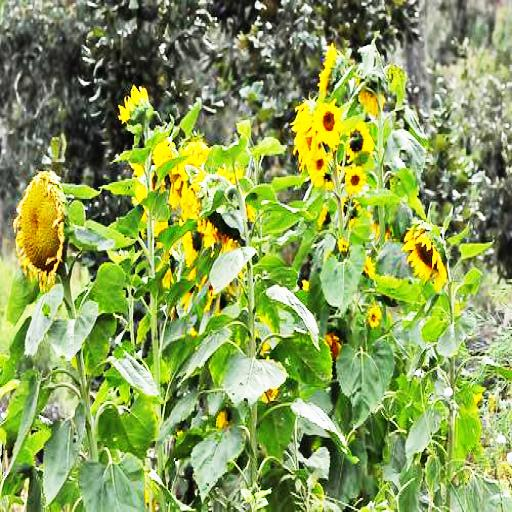sunflower: (14, 171, 69, 292), (402, 228, 448, 293), (313, 98, 342, 150), (304, 146, 330, 184), (346, 125, 374, 157), (344, 165, 367, 196)
